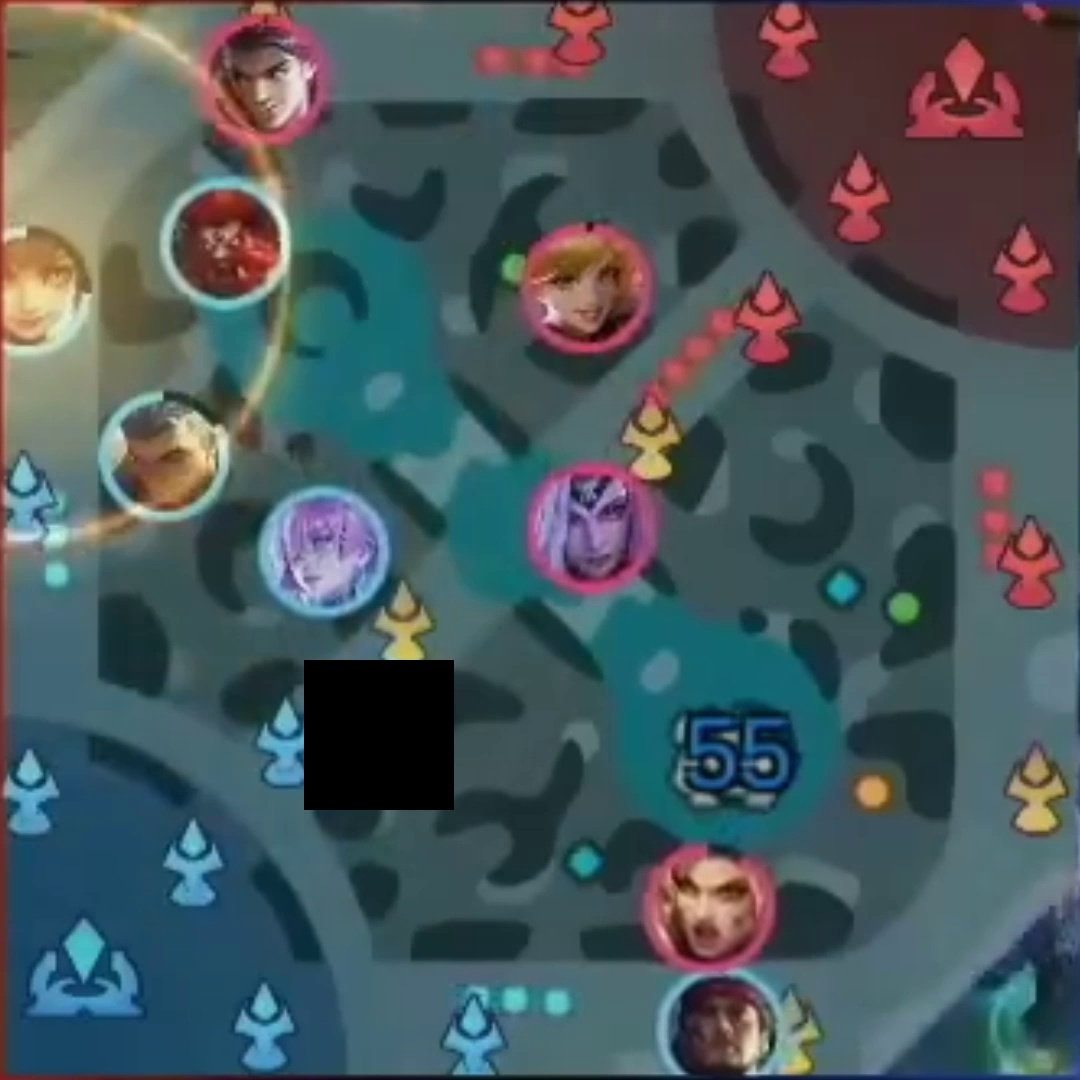Claude: (222, 38, 302, 128)
Fanny: (539, 243, 627, 331)
Fredrinn: (123, 406, 209, 503)
Lapu-Lapu: (684, 985, 765, 1080)
Masha: (665, 859, 750, 964)
Minotaur: (179, 201, 269, 286)
Novaria: (277, 506, 362, 599)
Valentina: (544, 478, 637, 579)
Wanwan: (6, 241, 75, 337)
